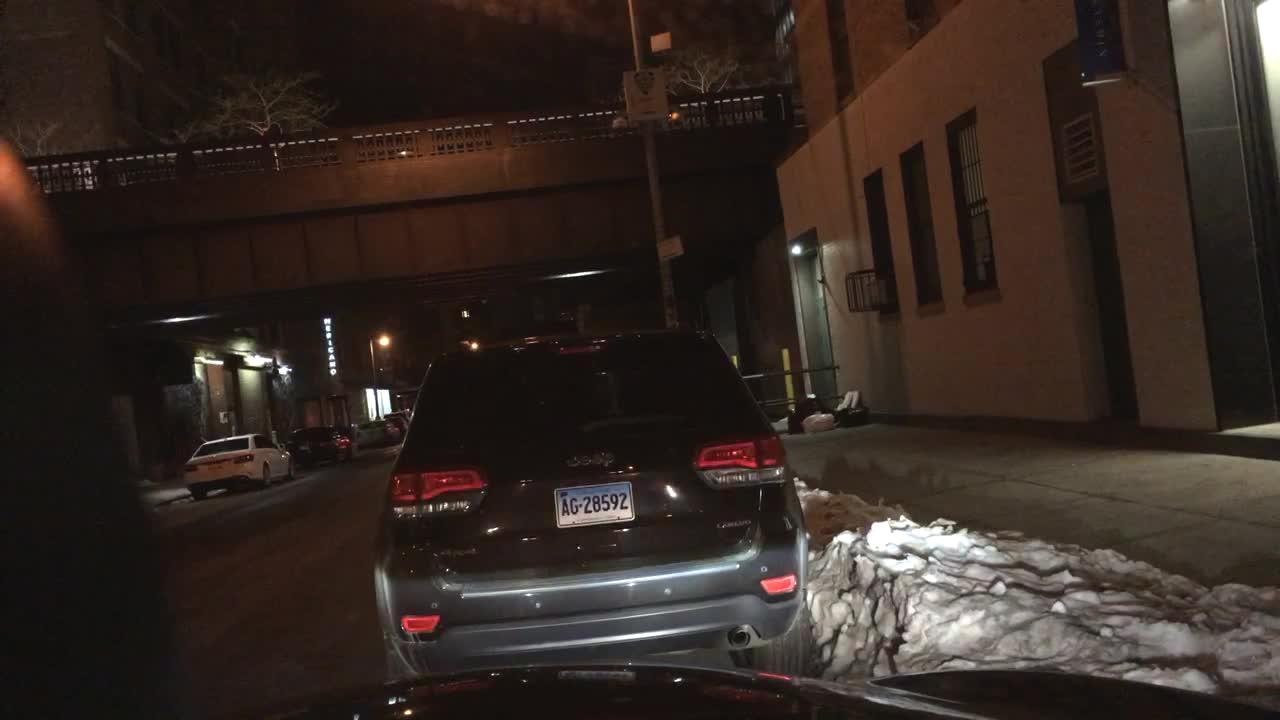jeep: (563, 445, 616, 474)
